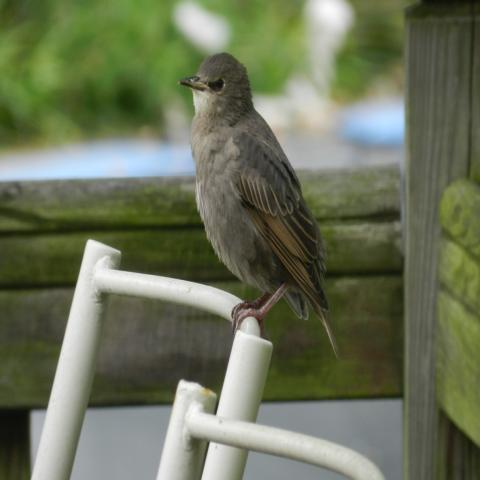bird: (176, 49, 341, 360)
